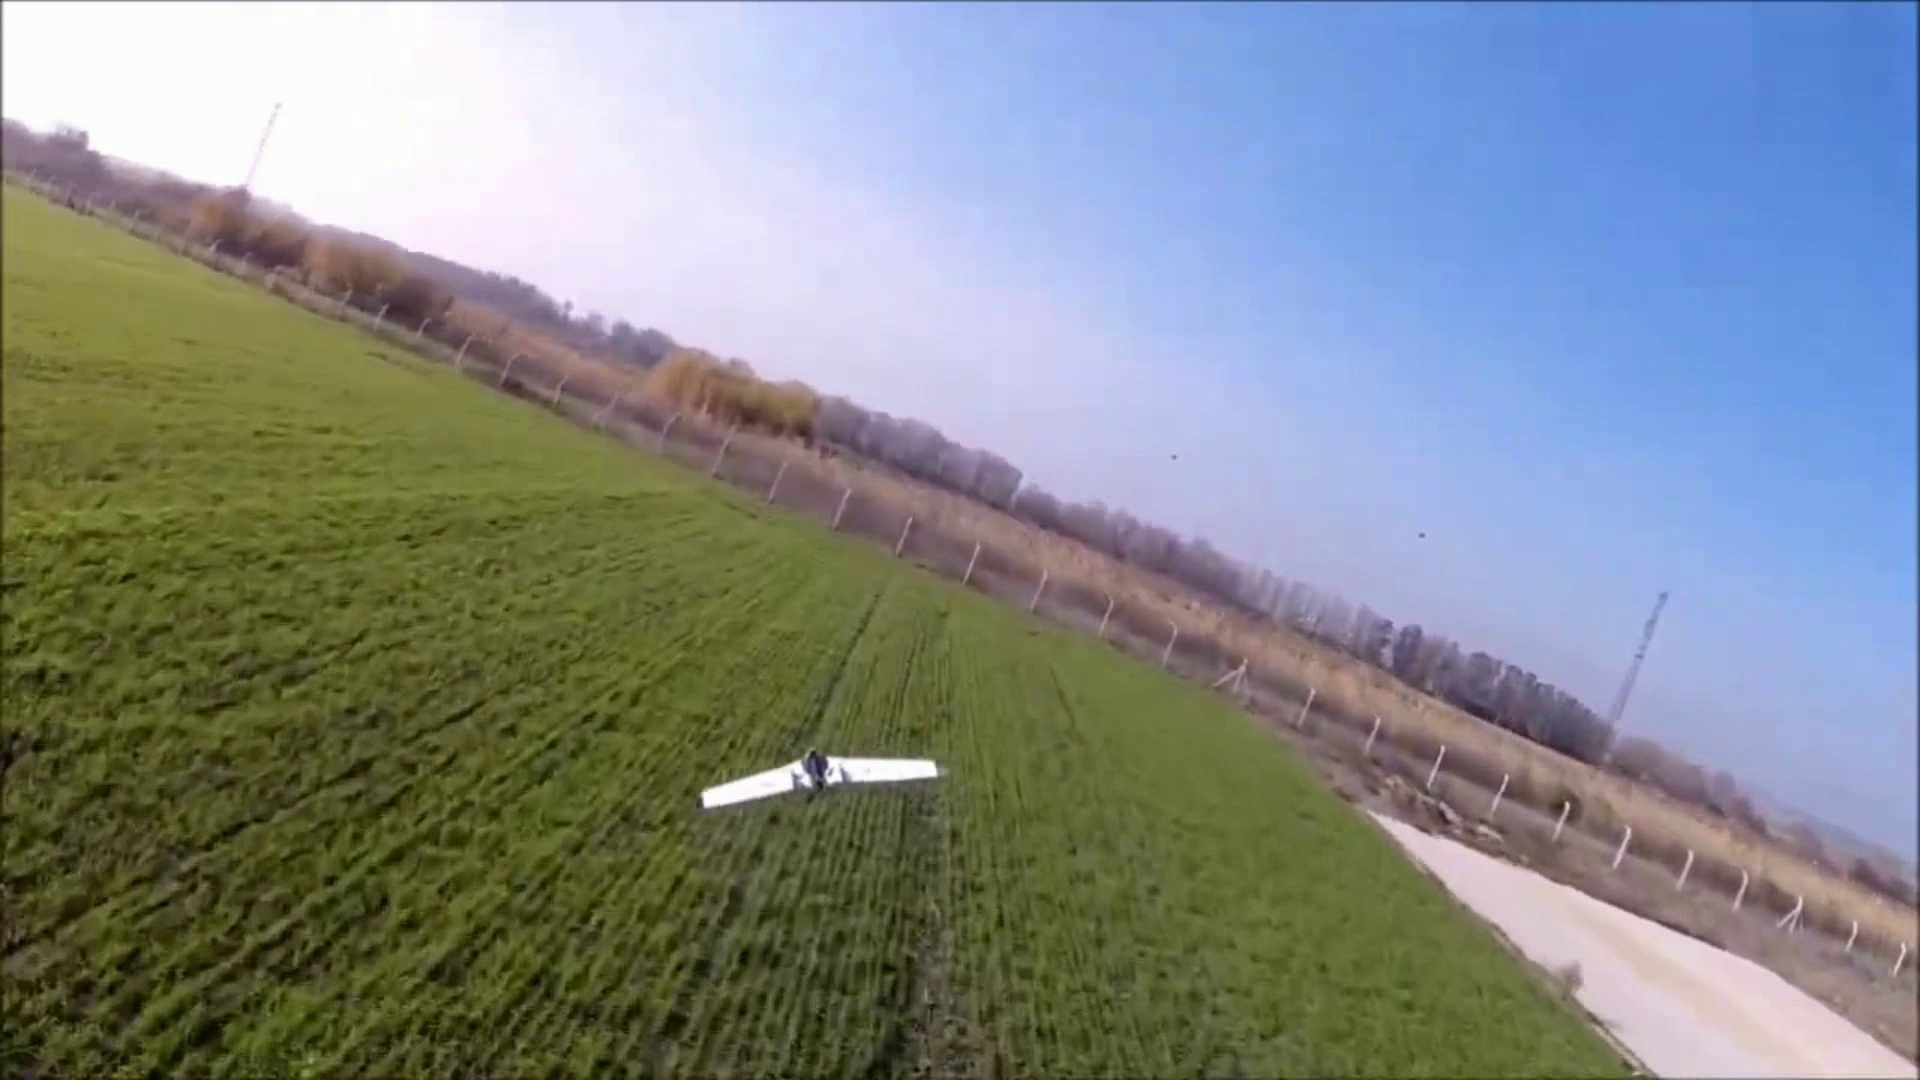airplane: (702, 749, 940, 811)
